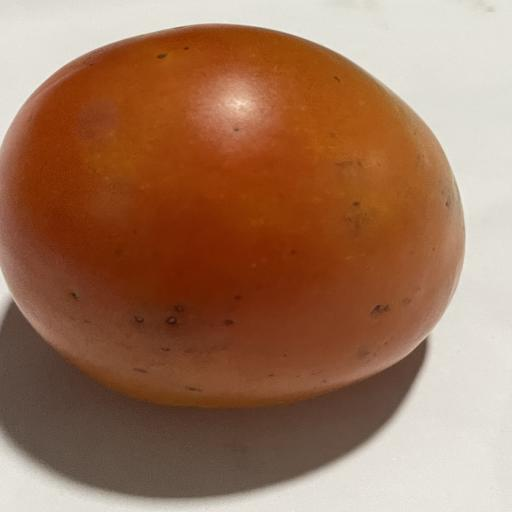unripe: (0, 25, 464, 407)
